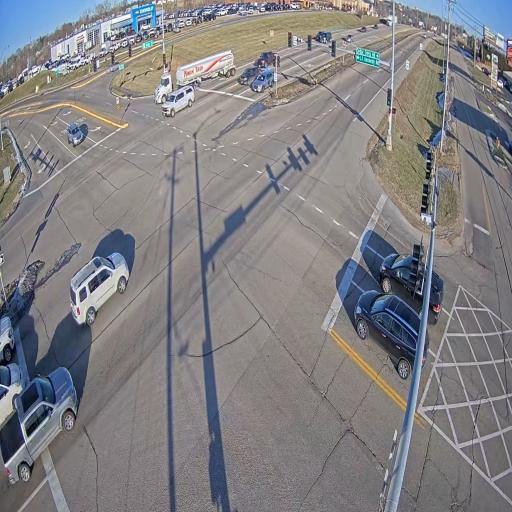pickup: (0, 366, 77, 484)
sedan: (251, 69, 275, 92), (238, 67, 259, 85), (108, 62, 120, 72), (346, 34, 353, 42), (360, 26, 366, 32), (373, 25, 379, 30)
suv: (354, 290, 420, 378), (70, 252, 131, 326), (0, 363, 26, 423), (162, 85, 195, 117), (0, 315, 14, 364), (67, 123, 84, 147), (257, 51, 274, 68), (316, 31, 332, 44), (191, 130, 196, 139)
truck: (154, 50, 236, 104), (163, 86, 195, 117), (386, 17, 393, 25), (394, 16, 397, 22)
van: (379, 244, 425, 315), (429, 271, 443, 324)
